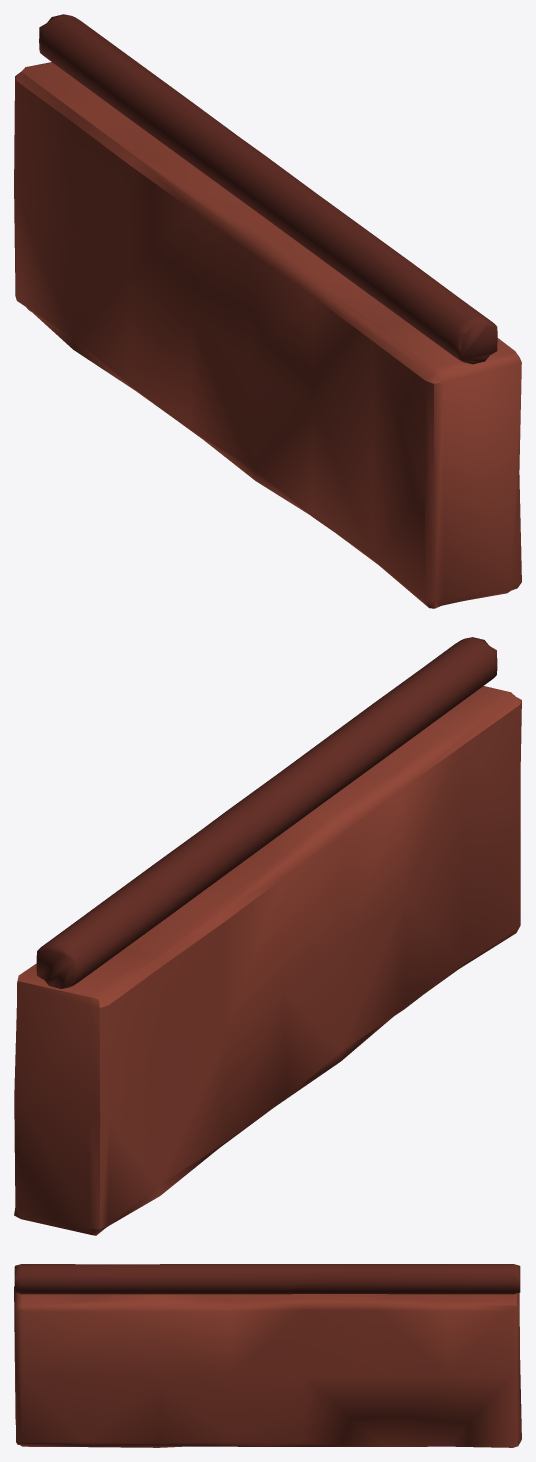
The model's file is den_bed_rail_lod2.glb.
The picture shows the model from 3 angles, top to bottom: view 1: azimuth 30°, elevation 25°; view 2: azimuth 150°, elevation 25°; view 3: azimuth 270°, elevation 25°; orthographic projection. The views are drawn at different scales.
Parts seen in each view (by area): view 1: den_bed_rail.001; view 2: den_bed_rail.001; view 3: den_bed_rail.001.
Part boxes in pixels (x1=…): den_bed_rail.001: x1=14, y1=14, x2=521, y2=608; den_bed_rail.001: x1=14, y1=637, x2=521, y2=1235; den_bed_rail.001: x1=14, y1=1264, x2=521, y2=1447.
Size of the model in its own units: 3.2 by 9 by 24.12.
